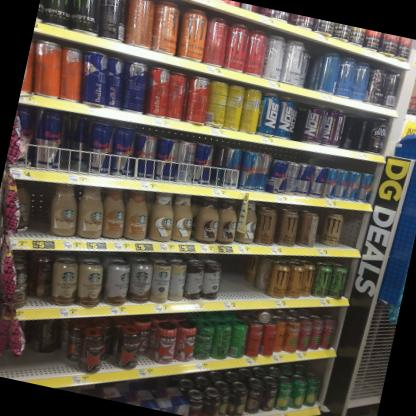empty_space: (28, 180, 54, 240), (0, 321, 24, 380), (216, 253, 241, 301), (252, 254, 278, 300), (338, 209, 365, 249), (236, 254, 258, 300)
